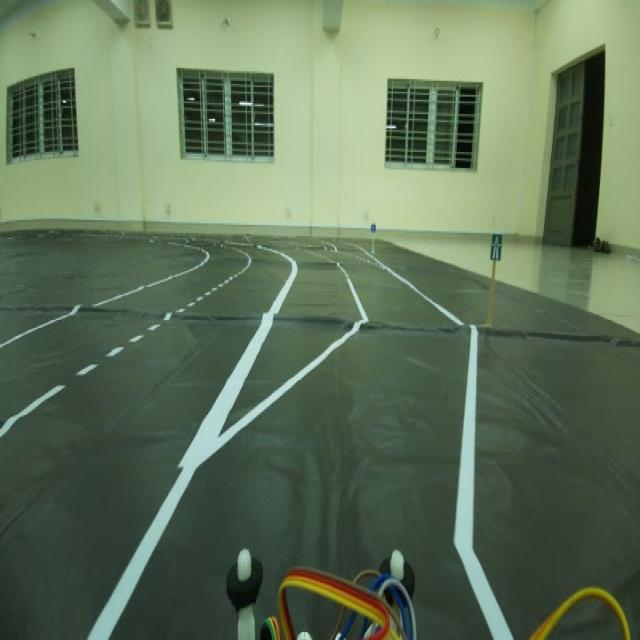highway_entry: (485, 219, 507, 266)
